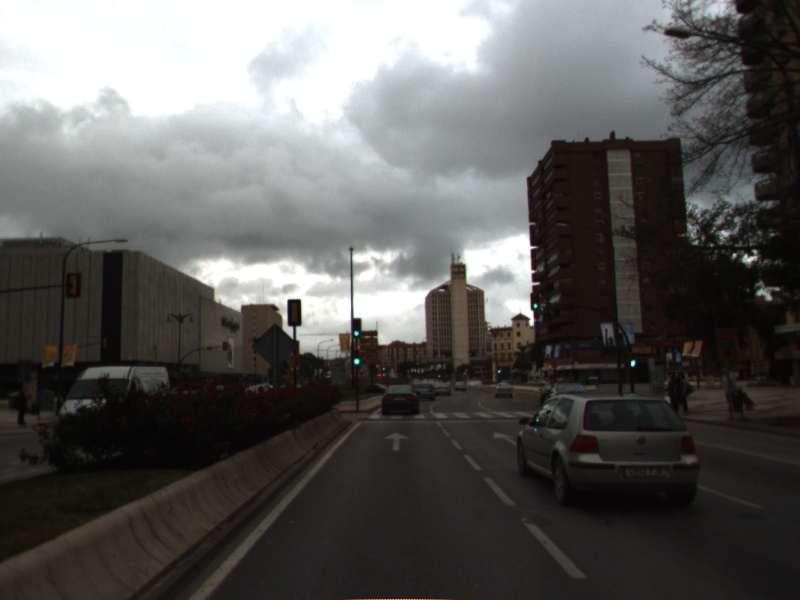STRAIGHT: (381, 430, 412, 453), (490, 428, 519, 447)
